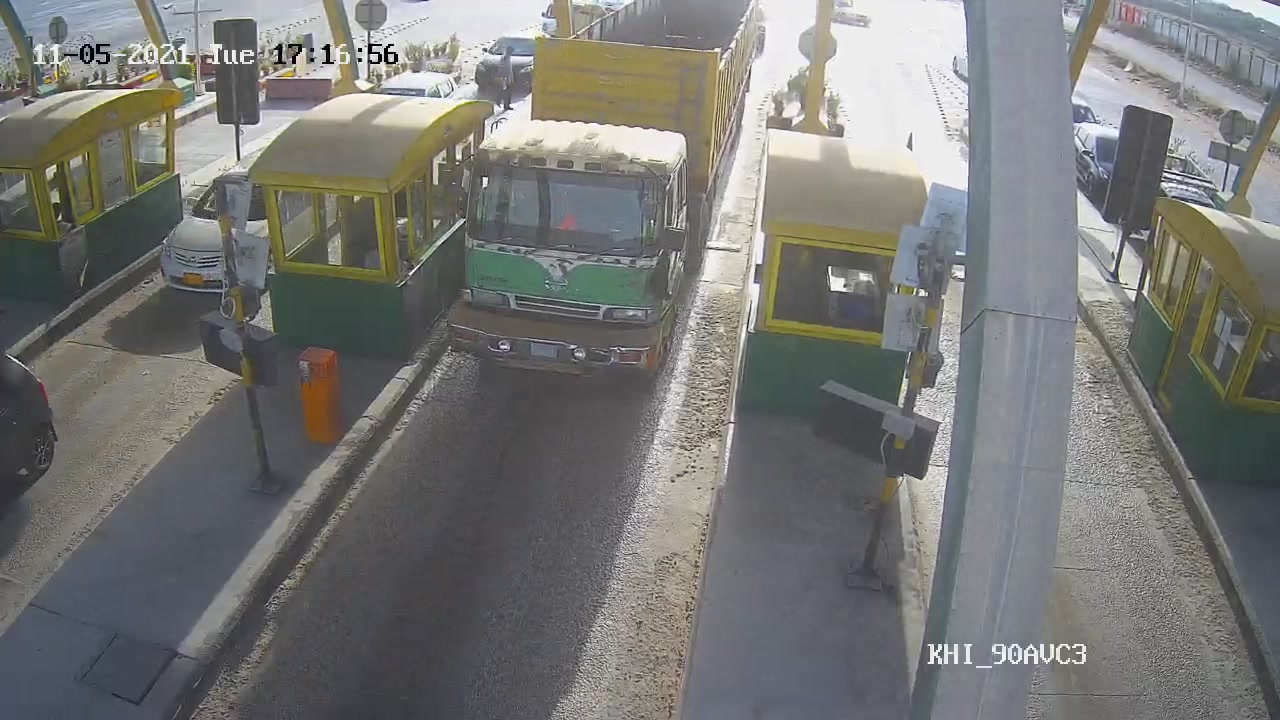F6: (439, 1, 762, 389)
